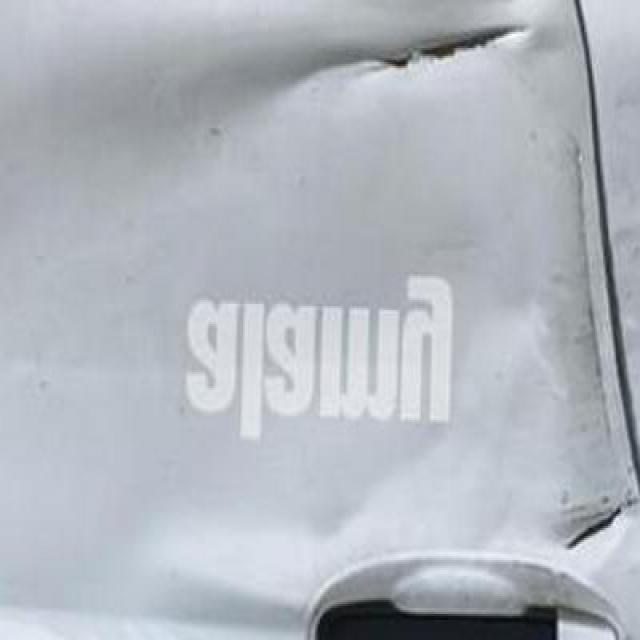dent: (310, 0, 526, 122), (544, 488, 635, 582)
